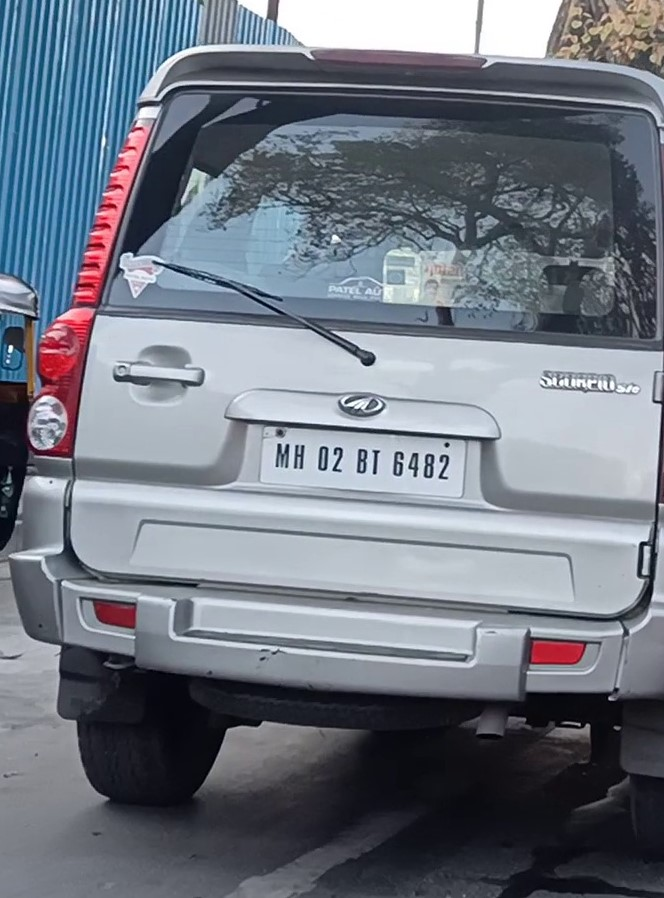MH02BT6482: (260, 418, 467, 500)
